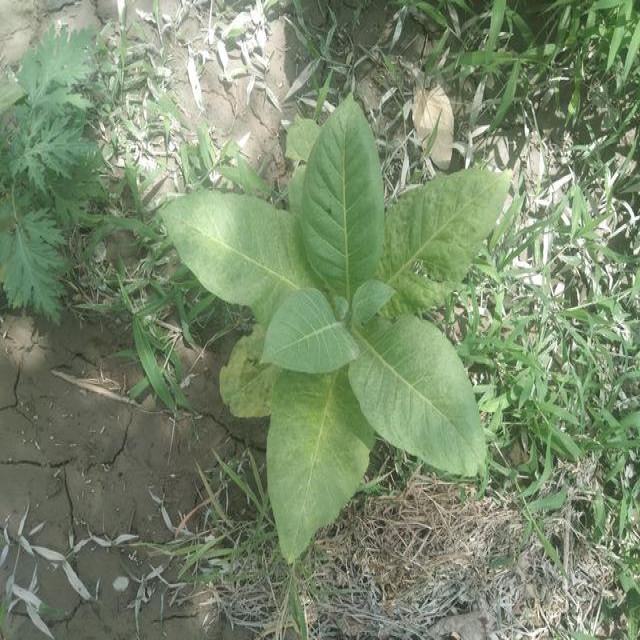crop: (171, 109, 510, 546)
